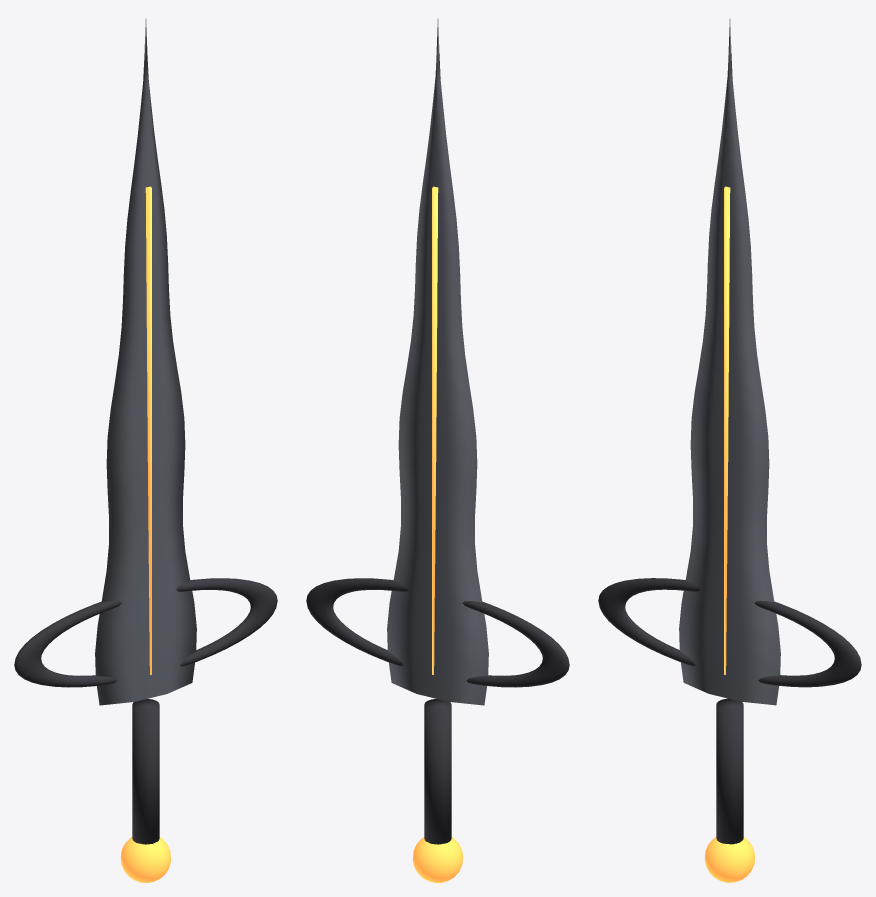
File: obsidian_cleaver.glb
3 renders of one model, left to right at view 1: azimuth 30°, elevation 25°; view 2: azimuth 150°, elevation 25°; view 3: azimuth 330°, elevation 25°, orthographic.
Visible parts, largest first — view 1: Blade; view 2: Blade; view 3: Blade.
Part boxes in pixels (box(x1,y1,x2,y2)): Blade: box(14, 18, 277, 882); Blade: box(306, 18, 569, 882); Blade: box(598, 18, 861, 882).
Size of the model in its own units: 0.539 by 1.7 by 0.09.
